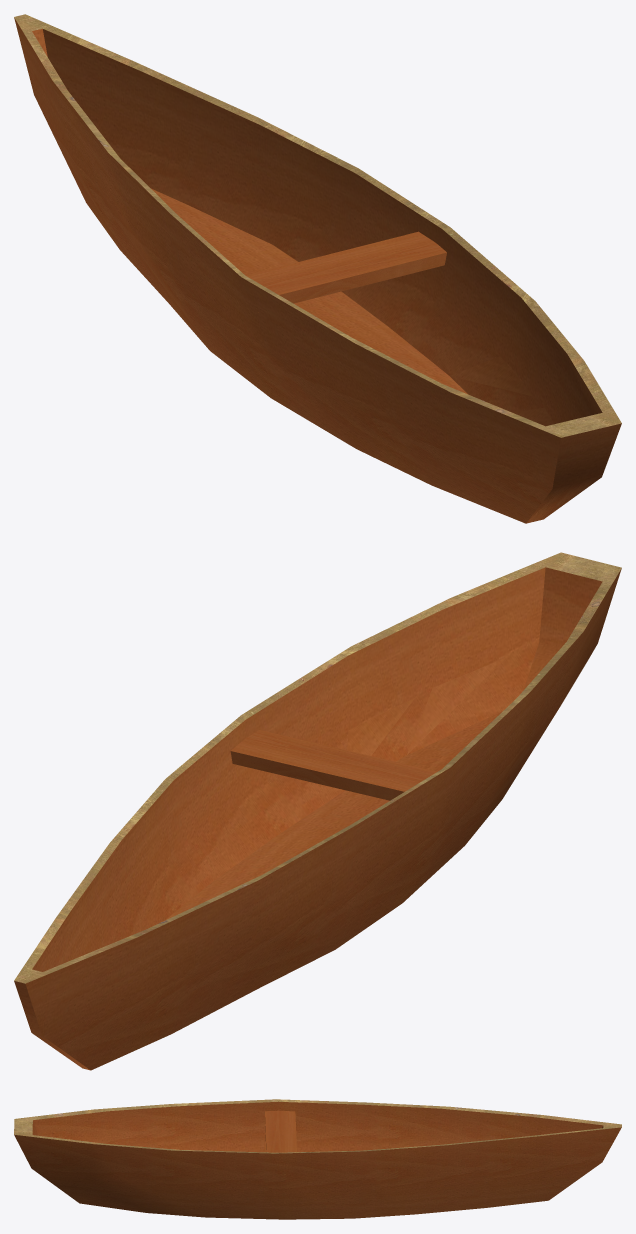
The model's file is boat.gltf.
The picture shows the model from 3 angles, top to bottom: view 1: azimuth 30°, elevation 25°; view 2: azimuth 150°, elevation 25°; view 3: azimuth 270°, elevation 25°; orthographic projection. The views are drawn at different scales.
Visible parts, largest first — view 1: Boat; view 2: Boat; view 3: Boat.
Part boxes in pixels (left/top/right/bottom): Boat: left=14, top=14, right=621, bottom=523; Boat: left=14, top=552, right=621, bottom=1070; Boat: left=14, top=1099, right=621, bottom=1219.
Size of the model in its own units: 1.14 by 0.7191 by 5.42.
Materials: 3 (3 with a texture image).
